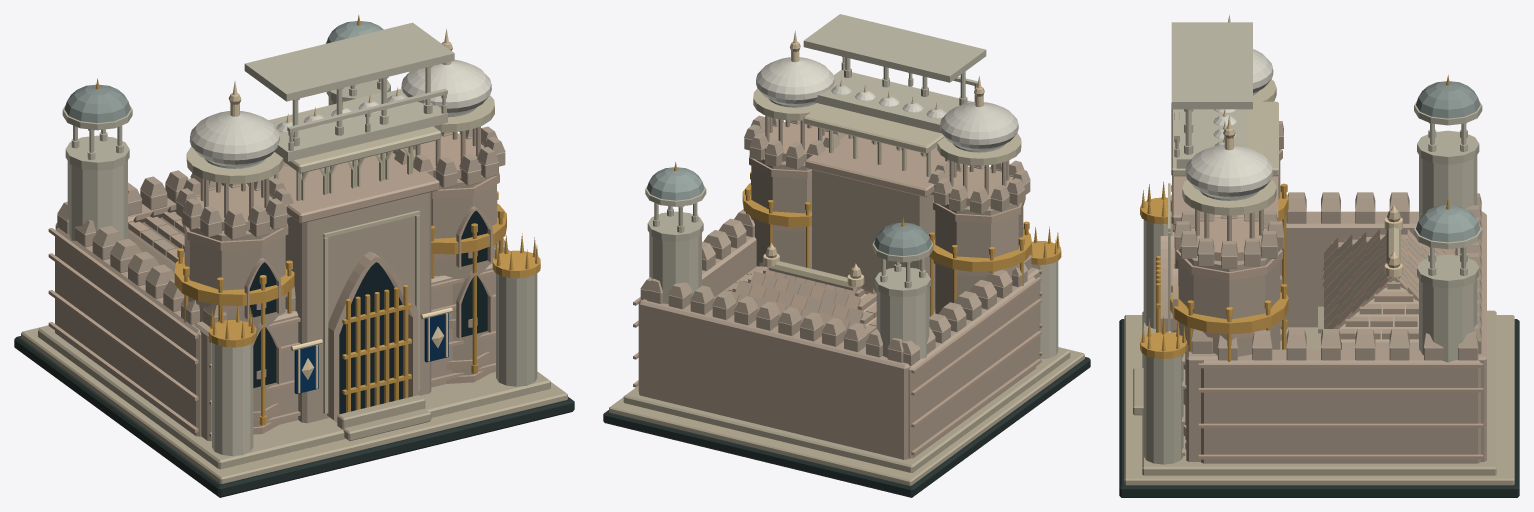
3 views of the same model, side by side, from view 1: azimuth 30°, elevation 25°; view 2: azimuth 150°, elevation 25°; view 3: azimuth 270°, elevation 25° (orthographic). The views are drawn at different scales.
Parts seen in each view (by area): view 1: barracks_L6_0, barracks_L6_1; view 2: barracks_L6_0, barracks_L6_1; view 3: barracks_L6_0, barracks_L6_1.
Boxes of the visible parts, x1,y1,x2,y2 form: barracks_L6_0: (14, 21, 574, 497); barracks_L6_1: (95, 14, 540, 425); barracks_L6_0: (603, 14, 1090, 497); barracks_L6_1: (674, 31, 1061, 316); barracks_L6_0: (1119, 22, 1519, 497); barracks_L6_1: (1140, 14, 1449, 361).
Bounding box in the file's own units: 5.6 × 5.43 × 5.6.
